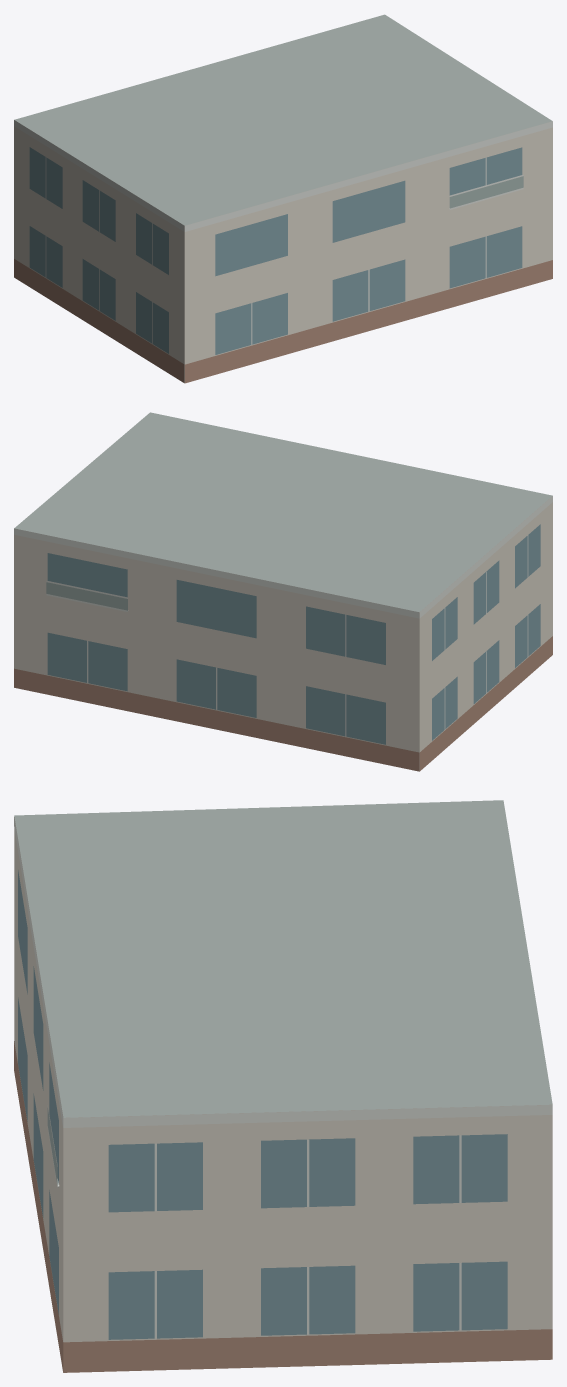
The model's file is survey-upis-32757128.glb.
3 views of the same model, one above another, from view 1: azimuth 30°, elevation 25°; view 2: azimuth 150°, elevation 25°; view 3: azimuth 270°, elevation 25° (orthographic). The views are drawn at different scales.
Parts seen in each view (by area): view 1: survey-upis-32757128.tmp; view 2: survey-upis-32757128.tmp; view 3: survey-upis-32757128.tmp.
Part boxes in pixels (x1=…): survey-upis-32757128.tmp: x1=14, y1=14, x2=552, y2=383; survey-upis-32757128.tmp: x1=14, y1=412, x2=552, y2=771; survey-upis-32757128.tmp: x1=14, y1=800, x2=552, y2=1372.
Size of the model in its own units: 16.32 by 6.1 by 11.69.
